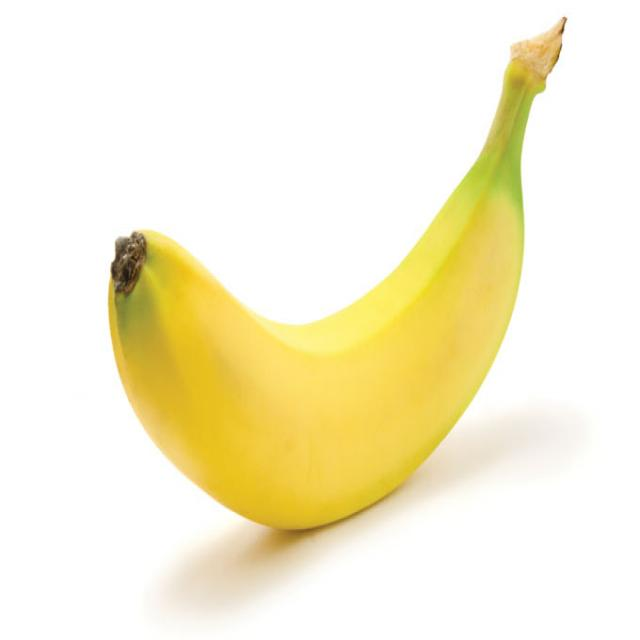banana: (93, 32, 552, 548)
